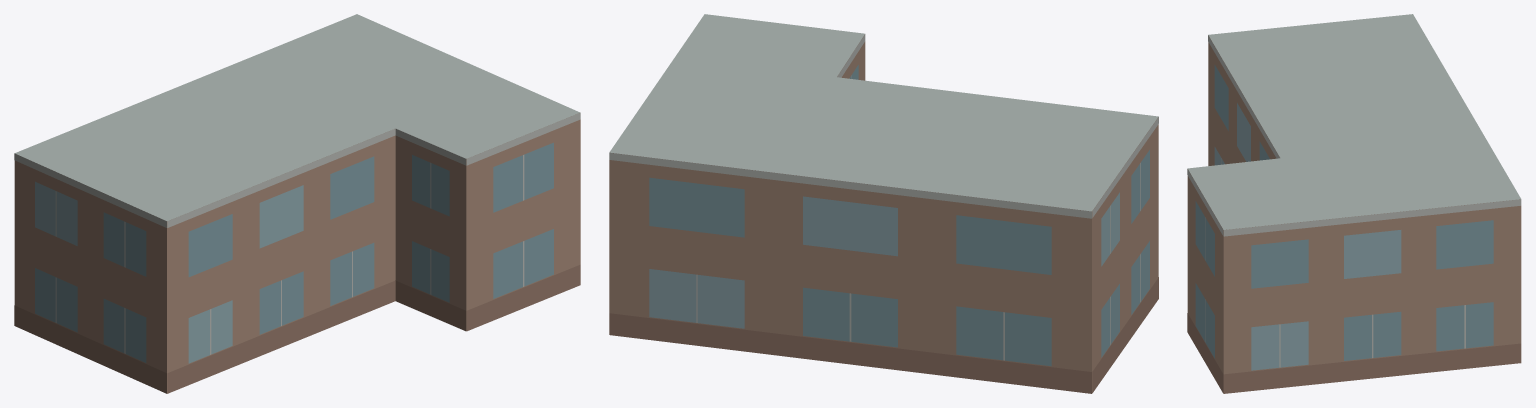
File: survey-upis-32716208.glb
3 renders of one model, left to right at view 1: azimuth 30°, elevation 25°; view 2: azimuth 150°, elevation 25°; view 3: azimuth 270°, elevation 25°, orthographic. The views are drawn at different scales.
Visible parts, largest first — view 1: survey-upis-32716208.tmp; view 2: survey-upis-32716208.tmp; view 3: survey-upis-32716208.tmp.
Boxes of the visible parts, x1=… form: survey-upis-32716208.tmp: x1=14, y1=14, x2=580, y2=393; survey-upis-32716208.tmp: x1=609, y1=14, x2=1158, y2=393; survey-upis-32716208.tmp: x1=1187, y1=14, x2=1521, y2=393.
Bounding box in the file's own units: 17.26 × 6.1 × 11.28.
